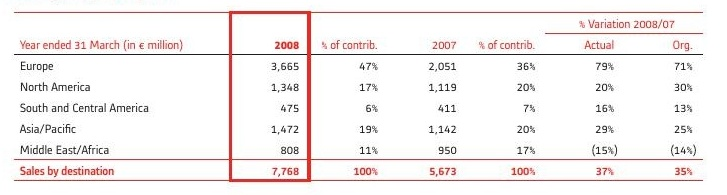table: (0, 0, 727, 195)
